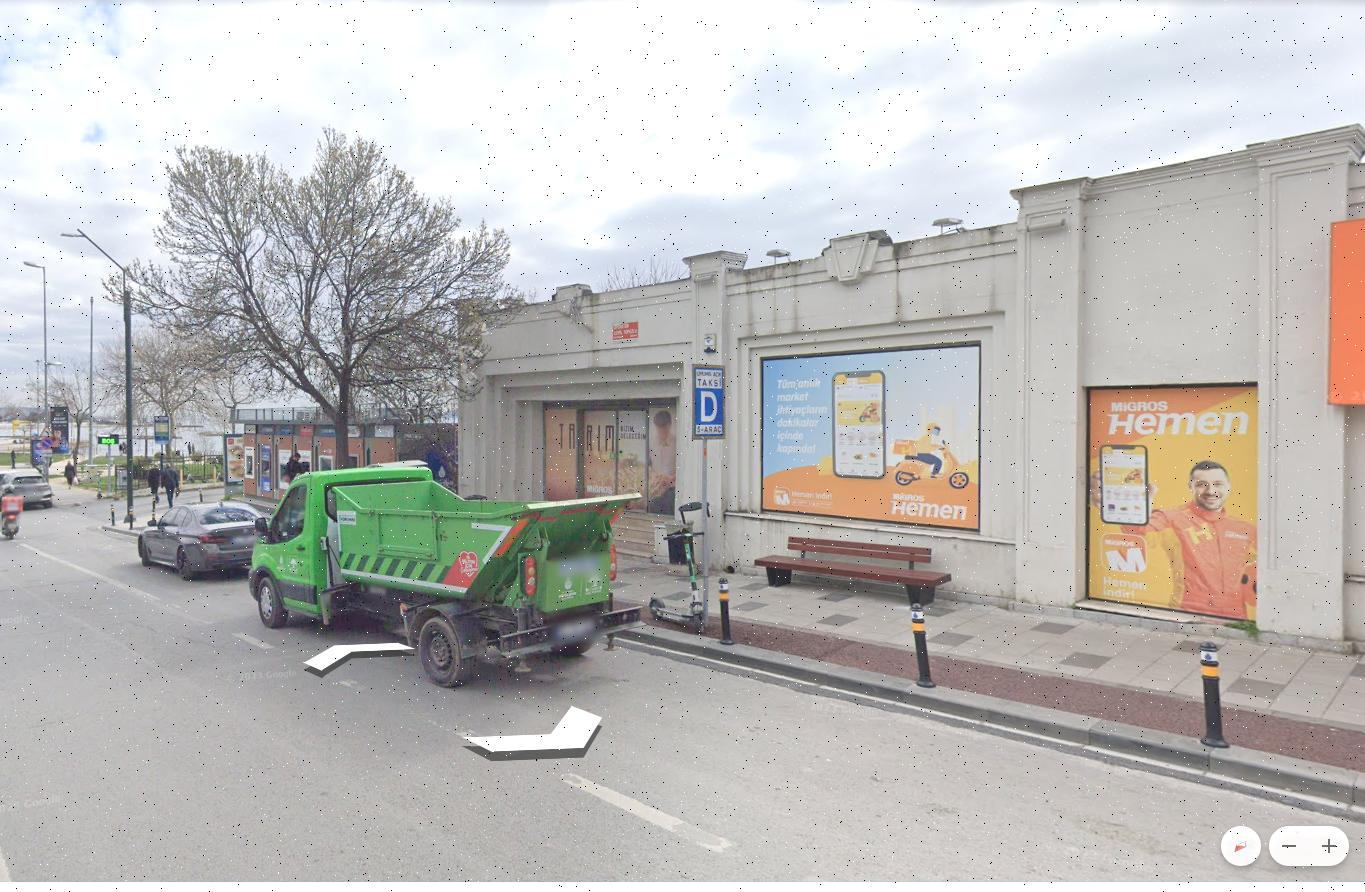stop: (694, 386, 724, 424)
